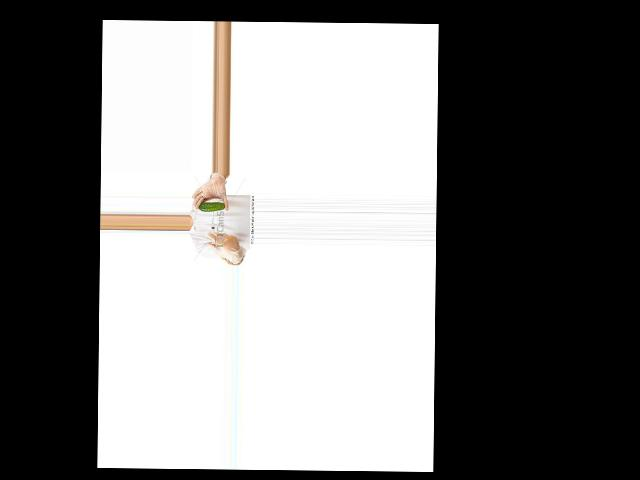cucumber: (198, 201, 226, 211)
